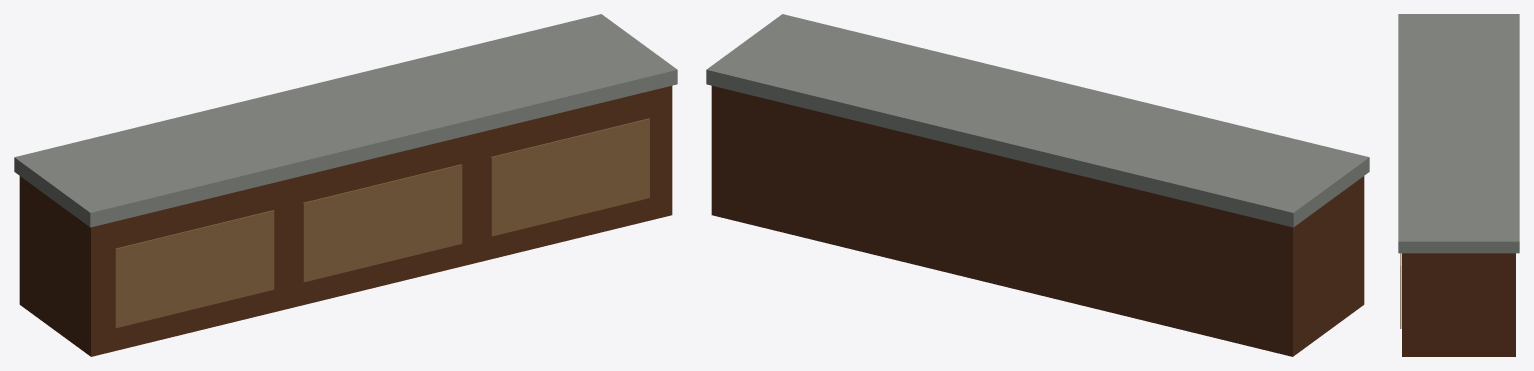
The model's file is bar.glb.
The picture shows the model from 3 angles, left to right: view 1: azimuth 30°, elevation 25°; view 2: azimuth 150°, elevation 25°; view 3: azimuth 270°, elevation 25°; orthographic projection. The views are drawn at different scales.
Visible parts, largest first — view 1: body; view 2: body; view 3: body.
Boxes of the visible parts, <box> form: body: <box>14,14,677,356</box>; body: <box>706,14,1369,356</box>; body: <box>1398,14,1519,356</box>.
Bounding box in the file's own units: 4 × 0.9525 × 0.898.
Materials: 1 (1 with a texture image).
